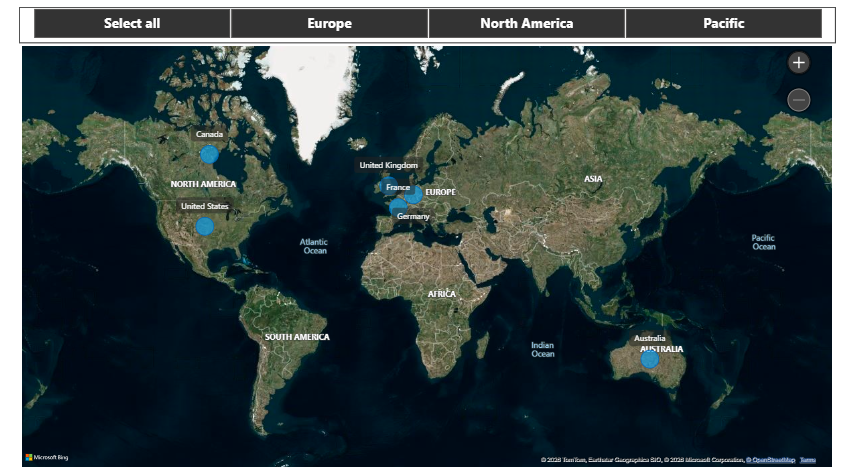

This screenshot's page, from the dashboard's own definition file:
{"tool":"powerbi","page":{"name":"Map","canvas":[1280,720],"ordinal":7},"visuals":[{"type":"map","fields":{"Category":["Territories_Lookup.Country"]},"box":[36.6,70.2,1219,638],"z":0},{"type":"slicer","fields":{"Values":["Territories_Lookup.Continent"]},"box":[14.1,16.1,1255.8,54.3],"z":1000}]}

Visuals, with their boxes in screenshot pixels (x1, y1, x2, y2), scaled from the page's 1280x720 canvas onto the 844x475 screenshot:
map - Territories_Lookup.Country: pyautogui.locateOnScreen(24, 46, 828, 467)
slicer - Territories_Lookup.Continent: pyautogui.locateOnScreen(9, 11, 837, 46)
